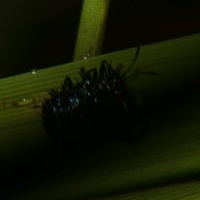insect: (0, 48, 134, 148), (42, 47, 146, 151)
